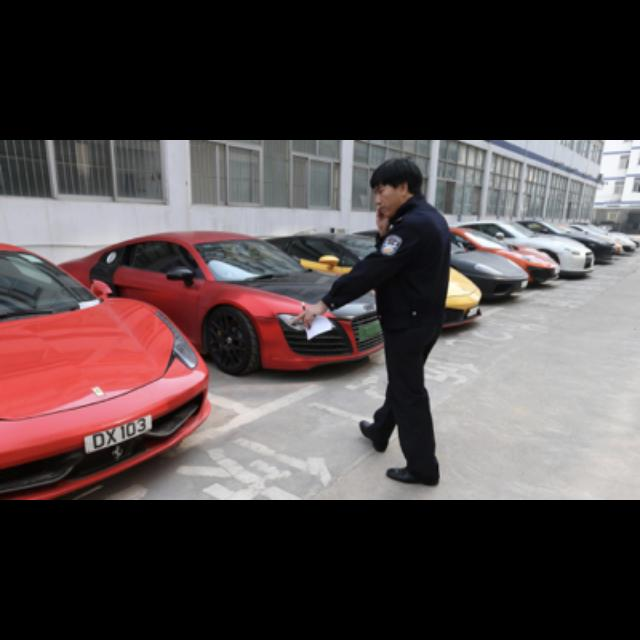carPlate: (86, 415, 151, 454)
